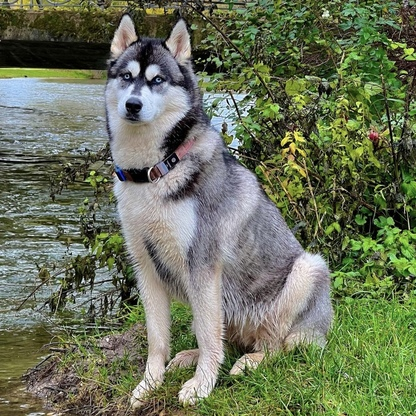husky: (95, 9, 338, 410)
